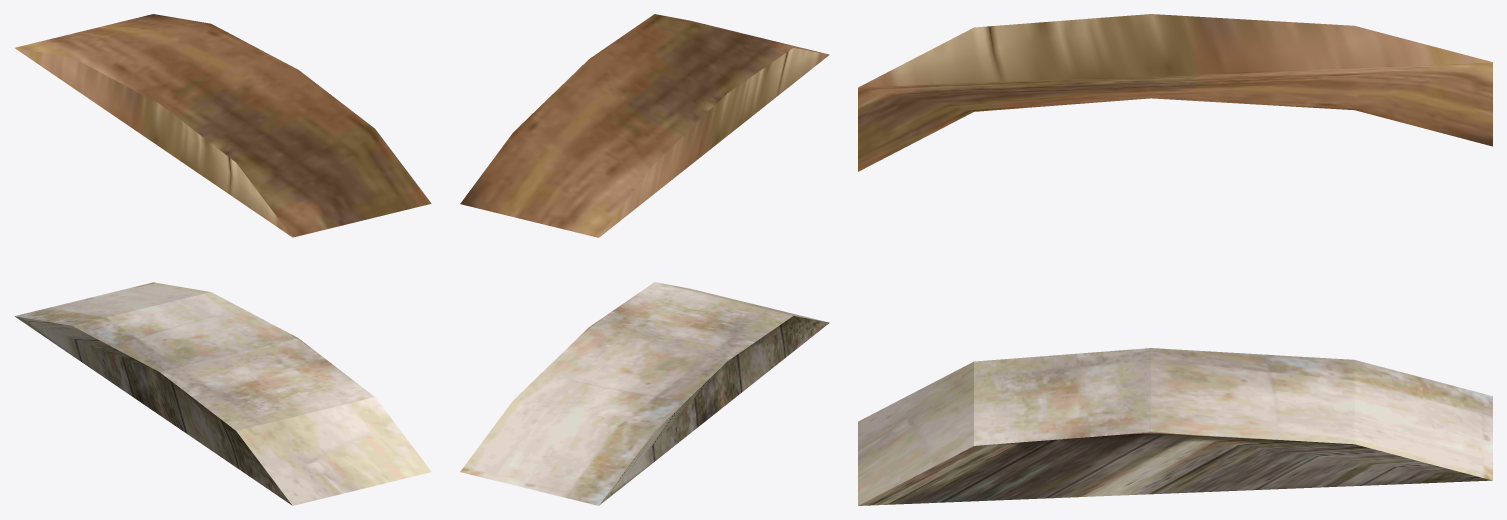
The model's file is bridge.glb.
The picture shows the model from 3 angles, left to right: view 1: azimuth 30°, elevation 25°; view 2: azimuth 150°, elevation 25°; view 3: azimuth 270°, elevation 25°; orthographic projection. The views are drawn at different scales.
Parts seen in each view (by area): view 1: Plane; view 2: Plane; view 3: Plane.
Part boxes in pixels (bbox=[...]): Plane: bbox=[14, 14, 431, 505]; Plane: bbox=[460, 14, 829, 505]; Plane: bbox=[858, 14, 1492, 505].
Size of the model in its own units: 2.34 by 4.4 by 6.35.
1 material, 1 textured.
